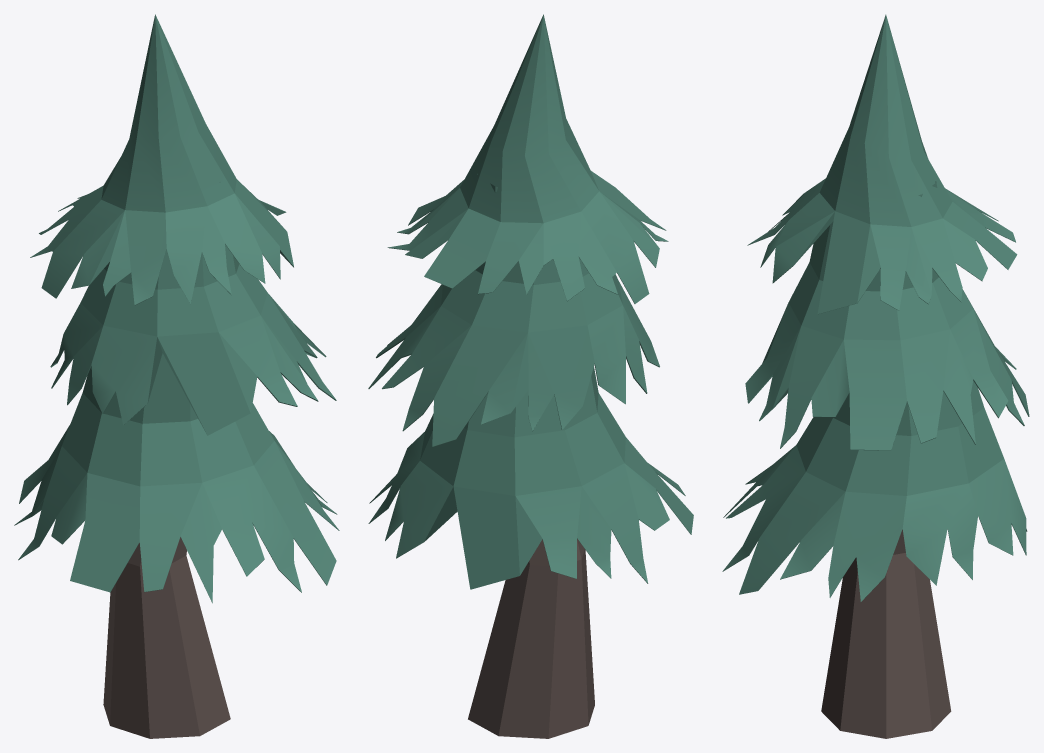
File: PINHEIRO.fbx
3 views of the same model, side by side, from view 1: azimuth 30°, elevation 25°; view 2: azimuth 150°, elevation 25°; view 3: azimuth 270°, elevation 25° (orthographic).
Parts seen in each view (by area): view 1: copa_meio_geo, tronco_geo1; view 2: copa_meio_geo, tronco_geo1; view 3: copa_meio_geo, tronco_geo1.
Boxes of the visible parts, x1=… form: copa_meio_geo: x1=14, y1=14, x2=339, y2=603; tronco_geo1: x1=103, y1=537, x2=230, y2=738; copa_meio_geo: x1=368, y1=14, x2=693, y2=589; tronco_geo1: x1=468, y1=539, x2=594, y2=738; copa_meio_geo: x1=722, y1=14, x2=1029, y2=601; tronco_geo1: x1=821, y1=529, x2=951, y2=738.
Size of the model in its own units: 288 by 688 by 277.
